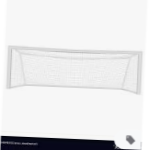goals: (6, 45, 144, 97)
